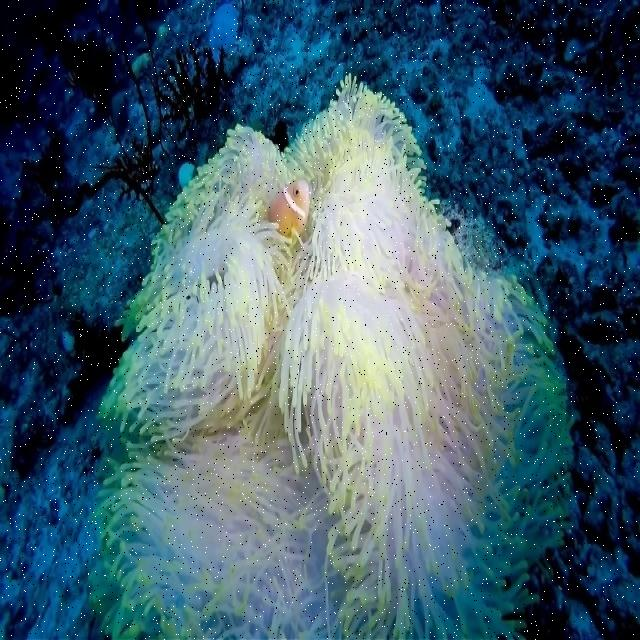aquatic plants: (87, 42, 247, 222)
fish: (270, 176, 311, 234)
reefs: (89, 76, 579, 639)
